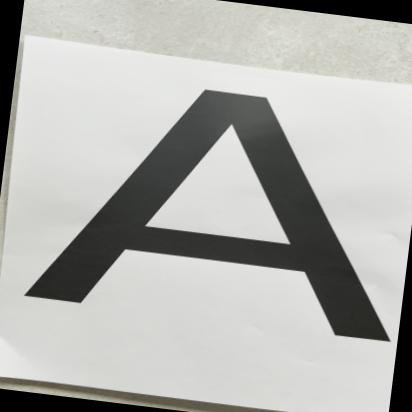seat: (13, 57, 412, 375)
